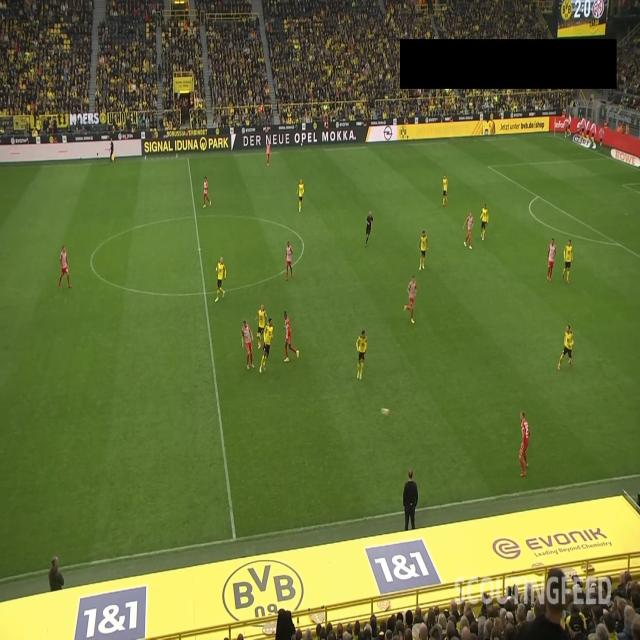ball: (380, 405, 392, 417)
